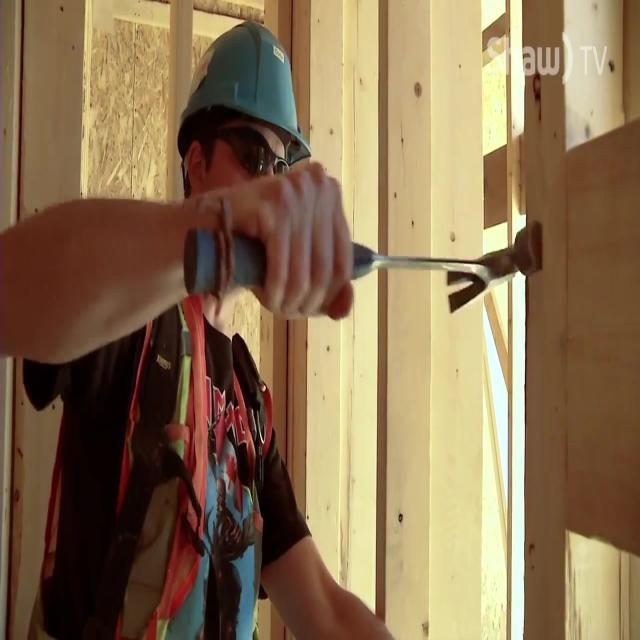Reflective-Jacket: (30, 267, 301, 640)
Safety-Helmet: (165, 13, 318, 175)
